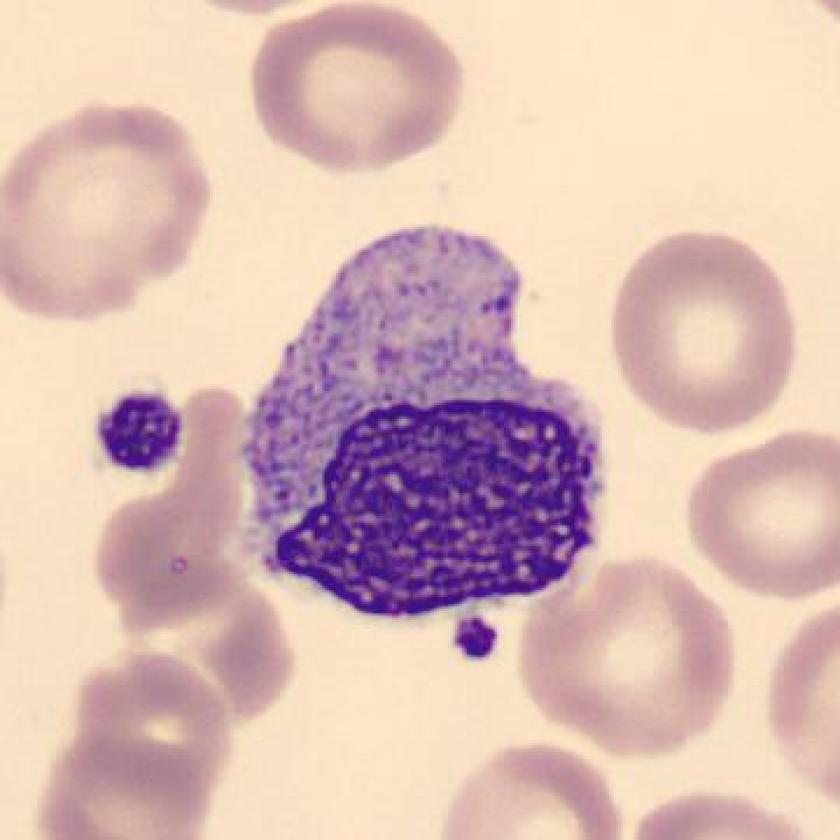monocyte: (216, 209, 619, 635)
